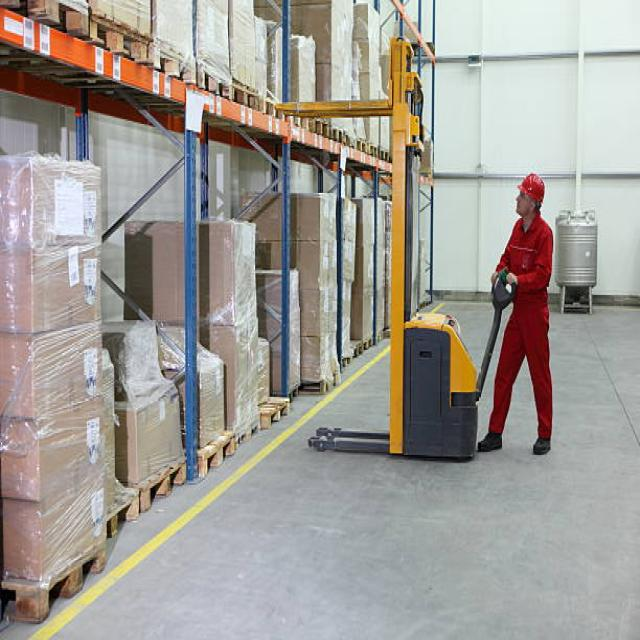Wooden-Pallets: (33, 526, 111, 625), (87, 11, 166, 74), (198, 419, 242, 499), (141, 455, 186, 516), (261, 384, 295, 443)
